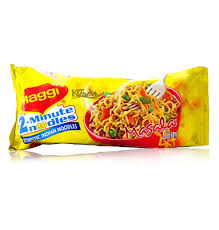maggi: (12, 65, 206, 147)
